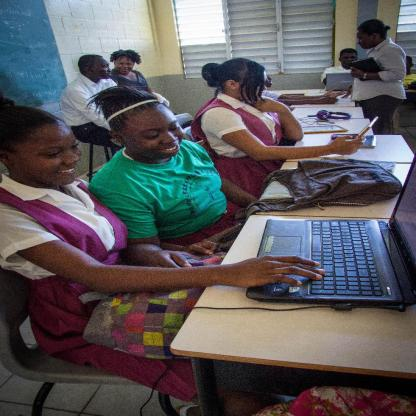board: (244, 154, 415, 304), (327, 74, 355, 90)
